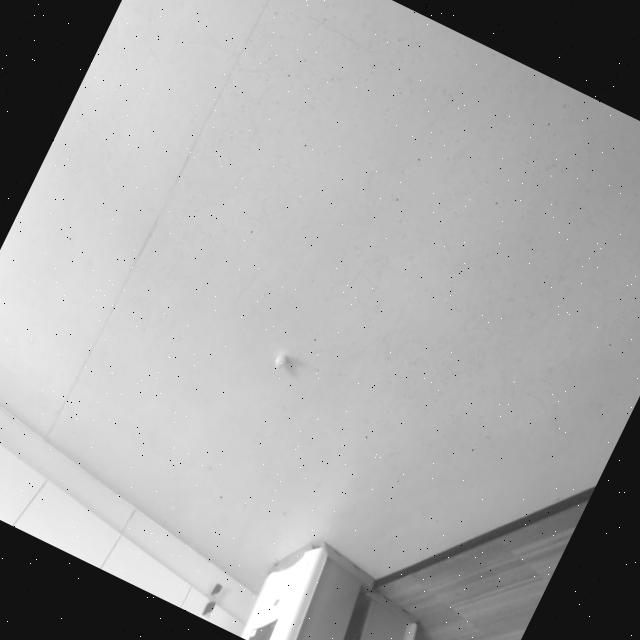ping-pong-ball: (270, 350, 288, 370)
